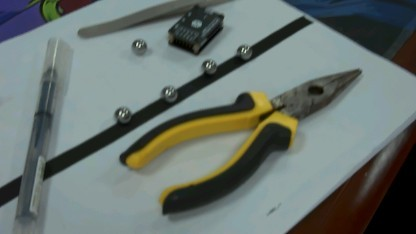ironball: (110, 102, 134, 126), (156, 81, 180, 104), (231, 39, 253, 61), (130, 36, 152, 54), (199, 56, 215, 74)
